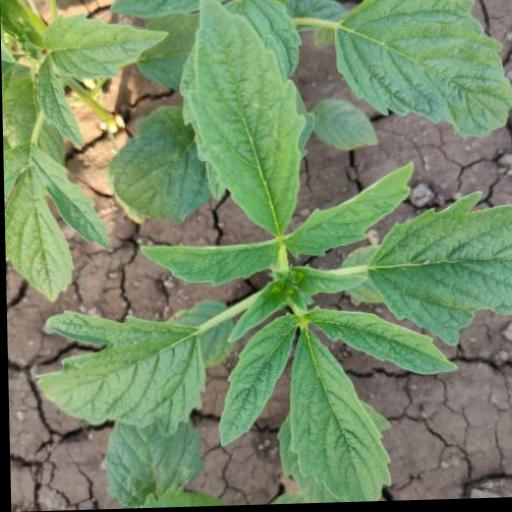weed: (25, 0, 512, 511)
